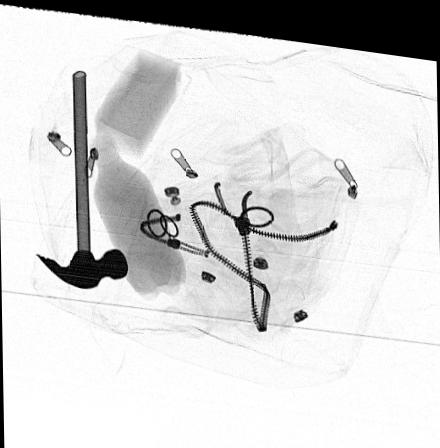Hammer: (35, 68, 128, 286)
